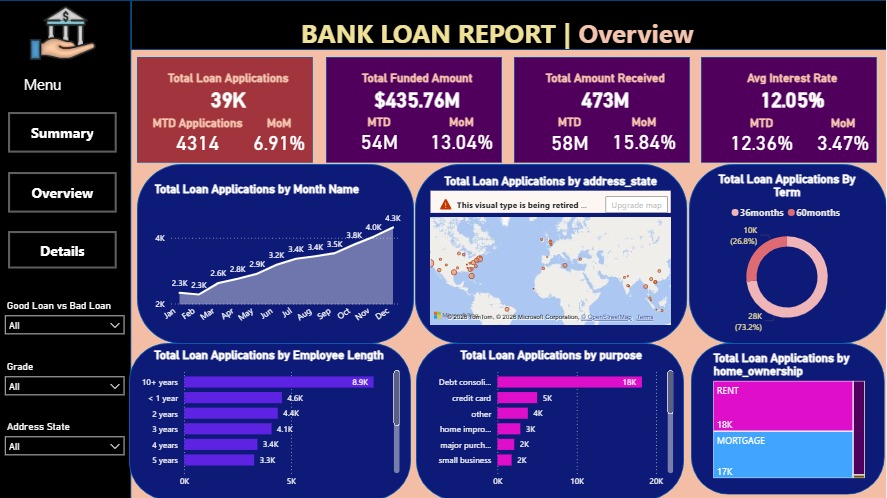

What the dashboard file says about the page in this screenshot:
{"tool":"powerbi","page":{"name":"Overview","canvas":[1280,720],"ordinal":1},"visuals":[{"type":"shape","box":[0,0,191.7,720],"z":0},{"type":"card","title":"Total Loan Applications","fields":{"Values":["Measure Table.Total Loan Applications"]},"box":[216,102.8,231.1,61.2],"z":0,"group":"g1"},{"type":"card","title":"Total Funded Amount","fields":{"Values":["Measure Table.Total Funded Amount"]},"box":[488,102.8,231.1,61.2],"z":0,"group":"g2"},{"type":"card","title":"Total Amount Received","fields":{"Values":["Measure Table.Total Amount Received"]},"box":[758.7,102.8,231.1,61.2],"z":0,"group":"g3"},{"type":"card","title":"Avg Interest Rate","fields":{"Values":["Measure Table.avg interest"]},"box":[1028.1,102.8,231.1,61.2],"z":0,"group":"g4"},{"type":"shape","box":[600.5,236.2,391.7,257.8],"z":0,"group":"g14"},{"type":"shape","box":[996.5,501.1,280.8,211.7],"z":0,"group":"g15"},{"type":"shape","box":[191.5,0,1088.6,72],"z":1000},{"type":"card","title":"MTD","fields":{"Values":["Measure Table.MTD loan amount"]},"box":[480.8,166.5,135.4,56.2],"z":1000,"group":"g2"},{"type":"card","title":"MTD","fields":{"Values":["Measure Table.mtd total loan amount"]},"box":[764.8,166.5,116.6,57.6],"z":1000,"group":"g3"},{"type":"card","title":"MTD Applications","fields":{"Values":["Measure Table.mtd applications"]},"box":[214.3,167.1,145.7,54.9],"z":1000,"group":"g1"},{"type":"card","title":"MTD","fields":{"Values":["Measure Table.mtd interest"]},"box":[1026.4,167.1,145.7,54.9],"z":1000,"group":"g4"},{"type":"map","fields":{"Size":["Measure Table.Total Loan Applications"],"Category":["financial_loan.address_state"]},"box":[617.3,251.3,356.1,222.3],"z":1500,"group":"g14"},{"type":"treemap","fields":{"Group":["financial_loan.home_ownership"],"Values":["Measure Table.Total Loan Applications"]},"box":[1024.1,512.1,229.3,182.3],"z":1500,"group":"g15"},{"type":"card","title":"MoM","fields":{"Values":["select","Measure Table.MoM_Totalamount"]},"box":[615.4,166.5,105.1,56.2],"z":2000,"group":"g2"},{"type":"card","title":"MoM","fields":{"Values":["select","Measure Table.MoM total loan"]},"box":[868.5,166.5,123.8,56.2],"z":2000,"group":"g3"},{"type":"card","title":"MoM","fields":{"Values":["Measure Table.MoM","select"]},"box":[361.7,167.1,86.8,54.9],"z":2000,"group":"g1"},{"type":"card","title":"MoM","fields":{"Values":["select","Measure Table.MoM interest"]},"box":[1173.8,167.1,86.8,54.9],"z":2000,"group":"g4"},{"type":"actionButton","box":[14.6,247.3,156.6,58.5],"z":2000},{"type":"shape","box":[200.2,82.1,253.2,152.2],"z":2002,"group":"g7"},{"type":"shape","box":[472.3,82.1,253.2,152.2],"z":2002,"group":"g8"},{"type":"shape","box":[743,82.1,253.2,152.2],"z":2002,"group":"g9"},{"type":"shape","box":[1012.3,82.1,253.2,152.2],"z":2002,"group":"g10"},{"type":"group","id":"g1","title":"Group 1","box":[214.3,102.8,234.2,119.2],"z":2502,"group":"g7"},{"type":"group","id":"g2","title":"Group 1","box":[480.8,102.8,239.7,119.9],"z":2502,"group":"g8"},{"type":"group","id":"g3","title":"Group 1","box":[758.7,102.8,233.6,121.3],"z":2502,"group":"g9"},{"type":"group","id":"g4","title":"Group 1","box":[1026.4,102.8,234.2,119.2],"z":2502,"group":"g10"},{"type":"actionButton","box":[14.6,332.2,156.6,54.1],"z":3000},{"type":"actionButton","box":[14.6,161,156.6,58.5],"z":4000},{"type":"textbox","box":[14.6,102.4,99.5,43.9],"z":5000},{"type":"group","id":"g5","title":"Group 3","box":[200.2,236.2,383,257.8],"z":6000},{"type":"shape","box":[200.2,236.2,397.6,258.2],"z":6000,"group":"g5"},{"type":"textbox","box":[315.4,0,763.2,87.8],"z":7000},{"type":"areaChart","fields":{"Category":["Date Table.Month Name"],"Y":["Measure Table.Total Loan Applications"]},"box":[220.2,261.7,363.5,221.3],"z":7000,"group":"g5"},{"type":"slicer","fields":{"Values":["financial_loan.grade"]},"box":[0,514.1,191.5,61.9],"z":8000},{"type":"slicer","fields":{"Values":["financial_loan.good loan vs bad loan"]},"box":[0,426.2,191.5,67.7],"z":9000},{"type":"slicer","fields":{"Values":["financial_loan.address_state"]},"box":[0,600.5,191.5,69.1],"z":10000},{"type":"image","box":[28.8,0,128.2,95],"z":11000},{"type":"group","id":"g6","title":"Group 7","box":[996.5,501.1,280.8,211.7],"z":12000},{"type":"group","id":"g7","title":"Group 2","box":[200.2,82.1,253.4,152.6],"z":13000},{"type":"group","id":"g8","title":"Group 2","box":[472.3,82.1,253.2,152.2],"z":14000},{"type":"group","id":"g9","title":"Group 2","box":[743,82.1,253.2,152.2],"z":15000},{"type":"shape","box":[995,236.2,285.1,257.8],"z":15006,"group":"g11"},{"type":"shape","box":[200.2,501.1,394.6,218.9],"z":15500,"group":"g12"},{"type":"shape","box":[600.5,501.1,388.8,218.9],"z":15500,"group":"g13"},{"type":"donutChart","title":"Total Loan Applications By Term","fields":{"Y":["Measure Table.36months applications","Measure Table.60months applications"]},"box":[1012.3,247.4,247.9,234.6],"z":15506,"group":"g11"},{"type":"group","id":"g10","title":"Group 2","box":[1012.3,82.1,253.4,152.6],"z":16000},{"type":"barChart","fields":{"Category":["financial_loan.purpose"],"Y":["Measure Table.Total Loan Applications"]},"box":[614.6,508.6,363.8,202.4],"z":16000,"group":"g13"},{"type":"barChart","title":"Total Loan Applications by Employee Length","fields":{"Y":["Measure Table.Total Loan Applications"],"Category":["financial_loan.emp_length"]},"box":[209.2,508.6,375,202.4],"z":16500,"group":"g12"},{"type":"group","id":"g11","title":"Group 4","box":[995,236.2,285.1,257.8],"z":17000},{"type":"group","id":"g12","title":"Group 5","box":[200.2,501.1,394.6,218.9],"z":18000},{"type":"group","id":"g13","title":"Group 6","box":[600.5,501.1,388.8,218.9],"z":19000},{"type":"group","id":"g14","title":"Group 9","box":[600.5,236.2,391.7,257.8],"z":20000},{"type":"group","id":"g15","title":"Group 8","box":[996.5,501.1,280.8,211.7],"z":20502,"group":"g6"}]}

Visuals, with their boxes in screenshot pixels (x1, y1, x2, y2), scaled from the page's 1280x720 canvas onto the 887x498 screenshot:
shape: 0:0:133:497
"Total Loan Applications" card: 150:71:310:113
"Total Funded Amount" card: 338:71:498:113
"Total Amount Received" card: 526:71:686:113
"Avg Interest Rate" card: 712:71:873:113
shape: 416:163:688:342
shape: 691:347:885:493
shape: 133:0:886:50
"MTD" card: 333:115:427:154
"MTD" card: 530:115:611:155
"MTD Applications" card: 149:116:249:154
"MTD" card: 711:116:812:154
map - Measure Table.Total Loan Applications x financial_loan.address_state: 428:174:675:328
treemap - financial_loan.home_ownership x Measure Table.Total Loan Applications: 710:354:869:480
"MoM" card: 426:115:499:154
"MoM" card: 602:115:688:154
"MoM" card: 251:116:311:154
"MoM" card: 813:116:874:154
actionButton: 10:171:119:212
shape: 139:57:314:162
shape: 327:57:503:162
shape: 515:57:690:162
shape: 701:57:877:162
"Group 1" group: 149:71:311:154
"Group 1" group: 333:71:499:154
"Group 1" group: 526:71:688:155
"Group 1" group: 711:71:874:154
actionButton: 10:230:119:267
actionButton: 10:111:119:152
textbox: 10:71:79:101
"Group 3" group: 139:163:404:342
shape: 139:163:414:342
textbox: 219:0:747:61
areaChart - Date Table.Month Name x Measure Table.Total Loan Applications: 153:181:404:334
slicer - financial_loan.grade: 0:356:133:398
slicer - financial_loan.good loan vs bad loan: 0:295:133:342
slicer - financial_loan.address_state: 0:415:133:463
image: 20:0:109:66
"Group 7" group: 691:347:885:493
"Group 2" group: 139:57:314:162
"Group 2" group: 327:57:503:162
"Group 2" group: 515:57:690:162
shape: 690:163:886:342
shape: 139:347:412:497
shape: 416:347:686:497
"Total Loan Applications By Term" donutChart: 701:171:873:333
"Group 2" group: 701:57:877:162
barChart - financial_loan.purpose x Measure Table.Total Loan Applications: 426:352:678:492
"Total Loan Applications by Employee Length" barChart: 145:352:405:492
"Group 4" group: 690:163:886:342
"Group 5" group: 139:347:412:497
"Group 6" group: 416:347:686:497
"Group 9" group: 416:163:688:342
"Group 8" group: 691:347:885:493
